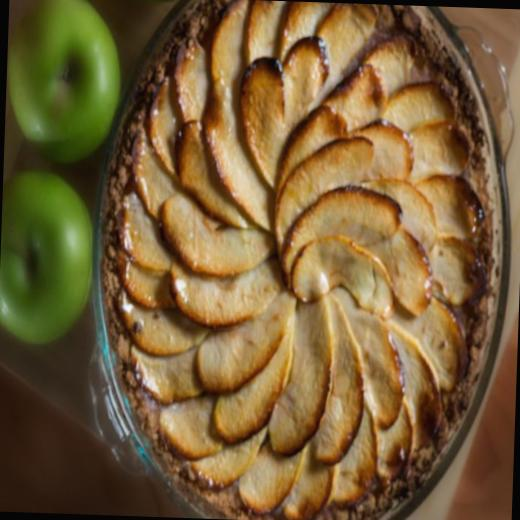Apple: (3, 0, 123, 165), (0, 166, 96, 346)
